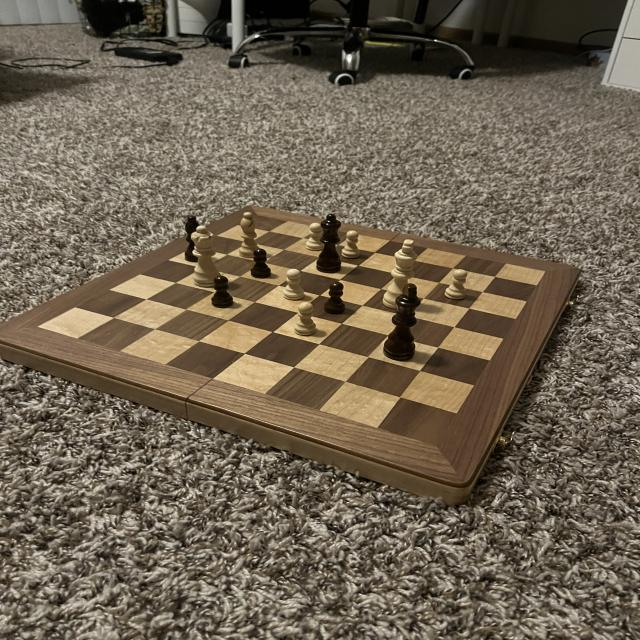bishop: (181, 212, 205, 264)
black-bishop: (378, 282, 420, 364)
black-knight: (248, 246, 273, 282), (323, 279, 348, 315), (210, 274, 234, 308)
black-pawn: (315, 212, 343, 276)
black-rook: (235, 210, 264, 262)
white-bishop: (380, 232, 421, 313)
white-knight: (441, 264, 472, 302), (291, 300, 319, 340), (282, 266, 308, 300), (304, 220, 326, 252), (342, 229, 360, 260)
white-pawn: (190, 224, 226, 291)
